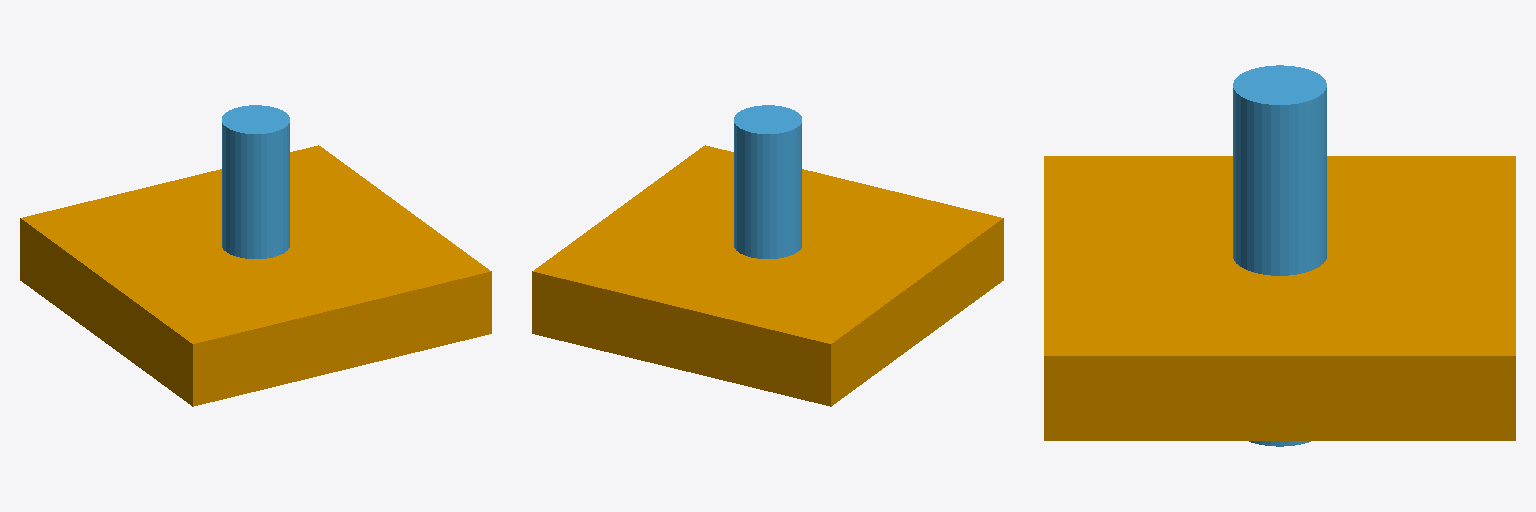
robot.urdf — two_link_bot:
<?xml version="1.0"?>
<robot name="two_link_bot">
  <link name="base_link">
    <visual>
      <geometry>
        <box size="0.5 0.5 0.1"/>
      </geometry>
    </visual>
  </link>
  <link name="arm">
    <visual>
      <geometry>
        <cylinder radius="0.05" length="0.4"/>
      </geometry>
    </visual>
  </link>
  <joint name="arm_joint" type="revolute">
    <parent link="base_link"/>
    <child link="arm"/>
    <origin xyz="0 0 0.05" rpy="0 0 0"/>
    <axis xyz="0 0 1"/>
  </joint>
</robot>

--- Render facts (derived) ---
The picture shows the robot from 3 angles, left to right: view 1: azimuth 30°, elevation 25°; view 2: azimuth 150°, elevation 25°; view 3: azimuth 270°, elevation 25°; orthographic projection.
Robot: two_link_bot — 2 links, 1 joints (1 revolute); root link base_link; default pose: every joint at zero.
Visible links, largest first — view 1: base_link, arm; view 2: base_link, arm; view 3: base_link, arm.
Boxes of the visible links, x1=… form: base_link: x1=20, y1=145, x2=491, y2=406; arm: x1=222, y1=105, x2=289, y2=258; base_link: x1=532, y1=145, x2=1003, y2=406; arm: x1=734, y1=105, x2=801, y2=258; base_link: x1=1044, y1=156, x2=1515, y2=440; arm: x1=1233, y1=65, x2=1326, y2=446.
Size in the robot's own frame: 0.5 by 0.5 by 0.4 metres.
Geometry: primitives only (box / cylinder / sphere), no mesh files.
